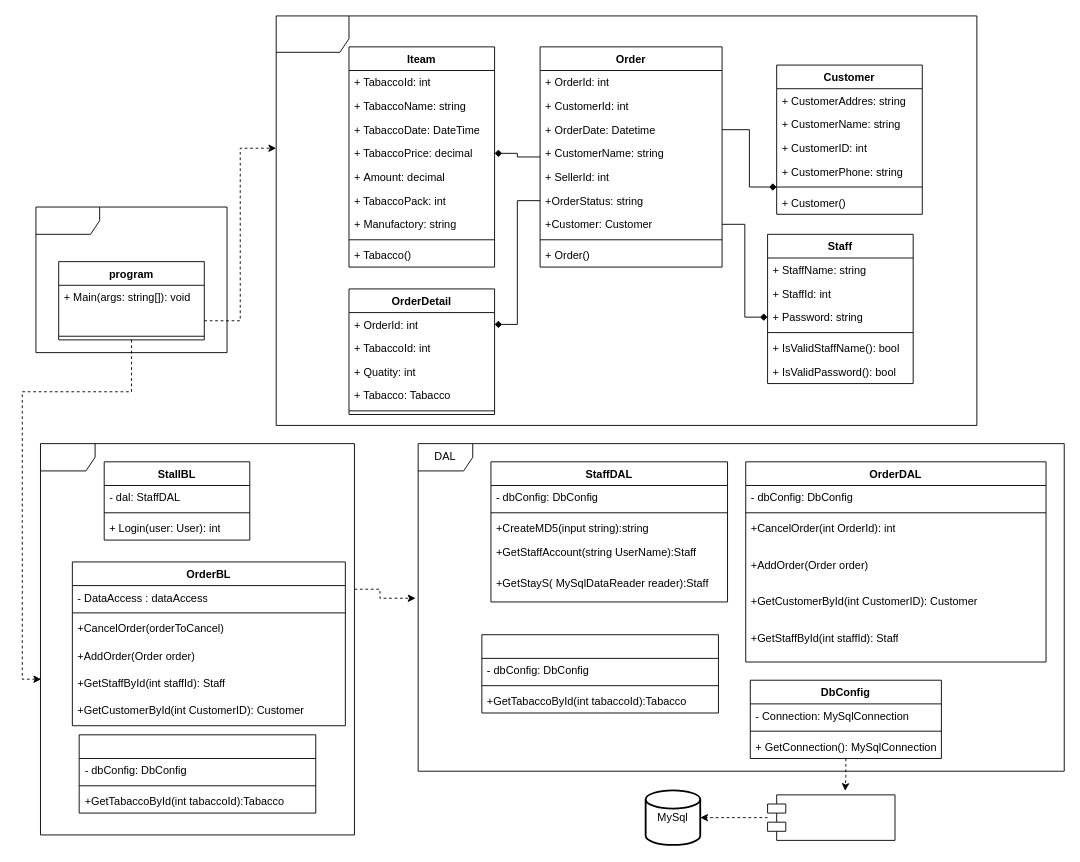
This 1080x862 diagram has some shape labels left out. The box of each missing label's shape, as (x1, y1, x2, y2) in pixels:
BL: (40, 443, 354, 835)
ConsolePL: (35, 206, 227, 353)
IteamBL: (78, 734, 316, 813)
IteamDAL: (481, 634, 718, 713)
Model: (275, 15, 977, 425)
MySqlConnector: (767, 794, 895, 840)
